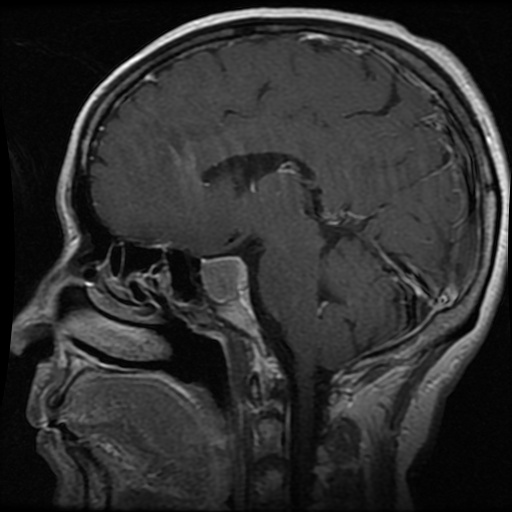pituitary: (202, 258, 246, 300)
